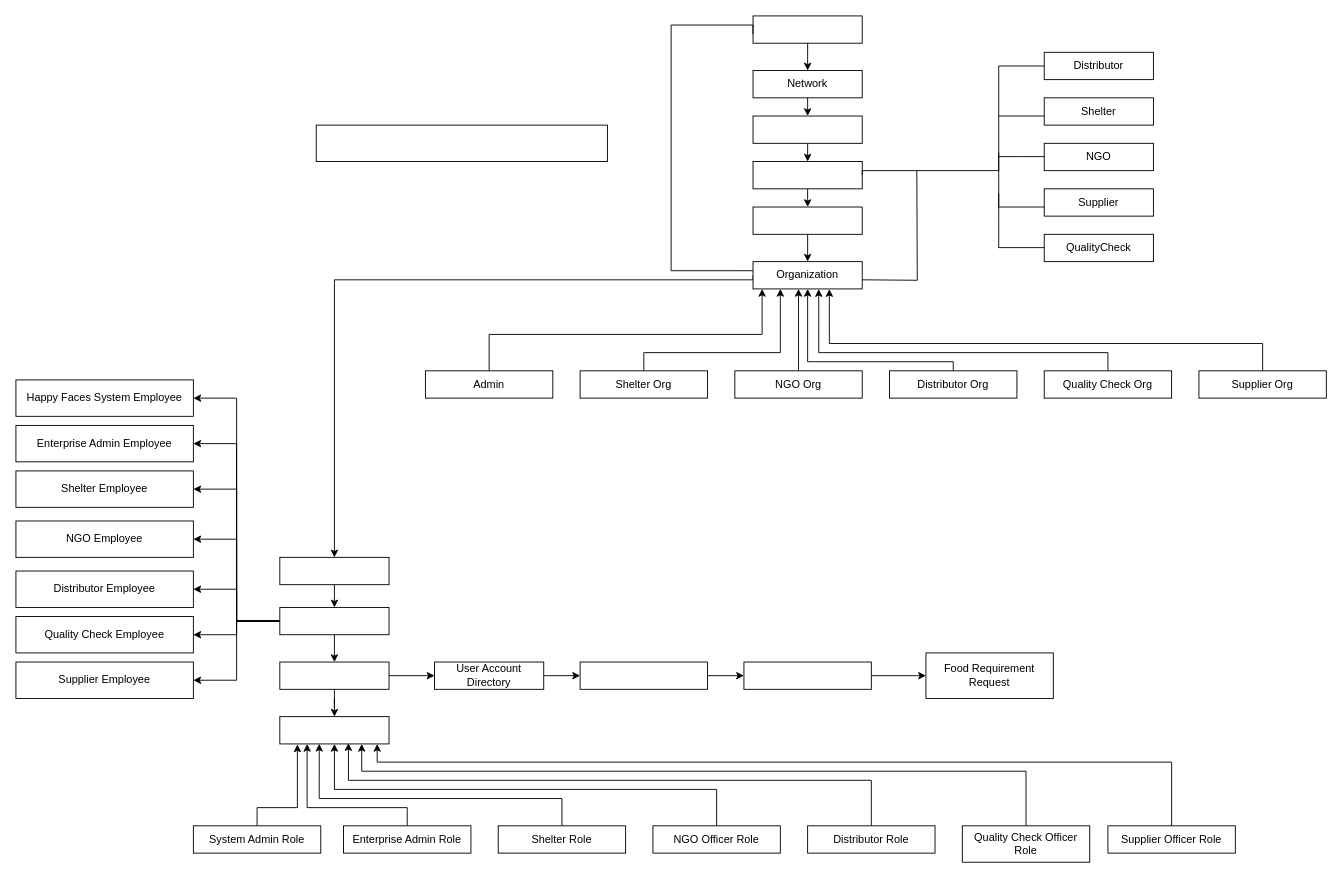
Image size: 1342x878. Some labels were removed from this diagram. Each missing label, with the box of its shape:
Configure a System: (315, 124, 607, 162)
Employee: (279, 607, 389, 635)
Employee Directory: (279, 556, 389, 585)
Enterprise: (752, 161, 862, 189)
Enterprise Directory: (752, 115, 862, 143)
Happy Faces: (752, 15, 862, 43)
Organization Directory: (752, 206, 862, 234)
Role: (279, 716, 389, 744)
User Account: (279, 661, 389, 689)
Work Queue: (579, 661, 708, 689)
Work Request: (743, 661, 871, 689)
